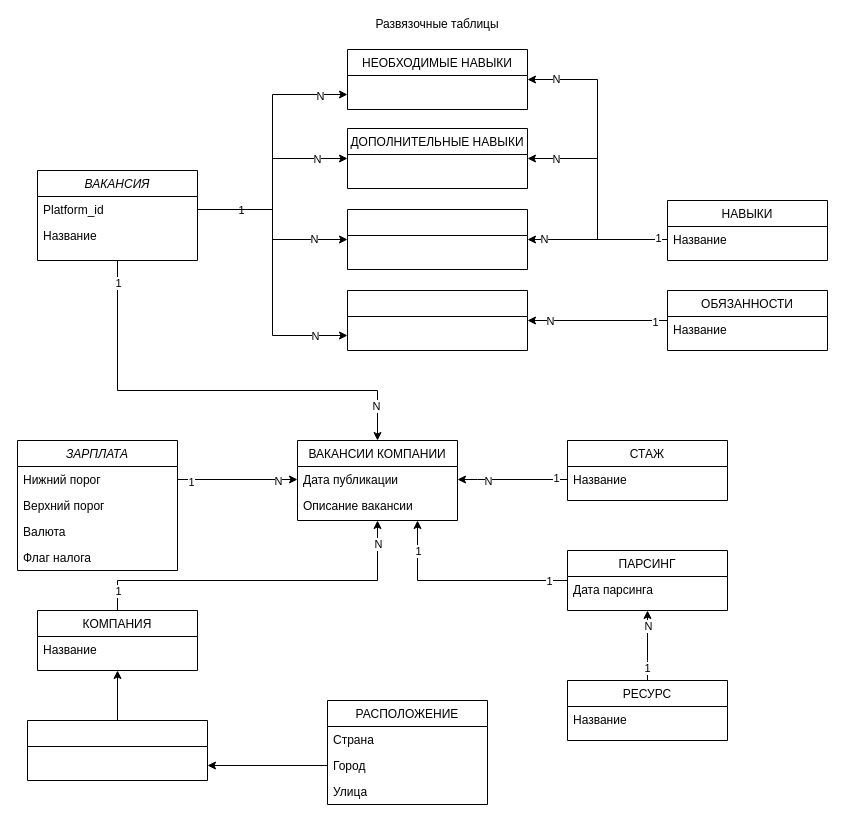
Some shapes in this 845 by 824 pixel diagram are drawn without their labels. Each missing label, with the centre of its shape:
КЛЮЧЕВЫЕ НАВЫКИ: (437,239)
ОБЯЗАННОСТИ ВАКАНСИИ: (437,320)
РАСПОЛОЖЕНИЕ КОМПАНИИ: (117,750)
